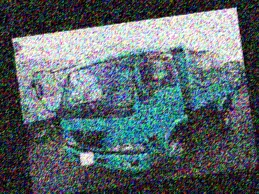truck: (49, 32, 246, 188)
